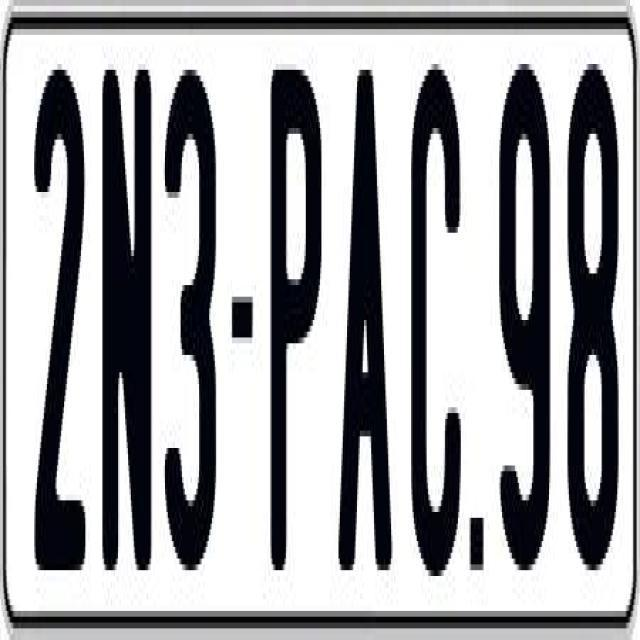2: (31, 58, 87, 594)
3: (165, 52, 219, 582)
8: (568, 52, 618, 582)
9: (500, 64, 550, 576)
A: (338, 58, 392, 588)
C: (410, 58, 468, 582)
N: (101, 58, 155, 594)
P: (268, 64, 322, 570)
